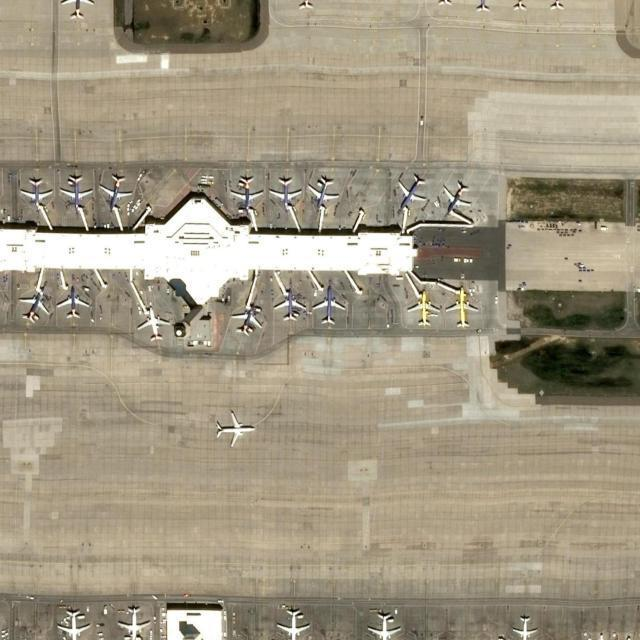Aircraft: (17, 173, 57, 211), (213, 412, 255, 447), (134, 305, 172, 343), (230, 172, 266, 212), (306, 172, 342, 212), (113, 604, 153, 640), (444, 287, 478, 329), (268, 175, 305, 212), (99, 172, 133, 212), (54, 285, 90, 322), (270, 286, 305, 324), (312, 285, 346, 324), (58, 173, 94, 209), (227, 303, 265, 337), (406, 290, 442, 324), (395, 175, 428, 211), (442, 180, 474, 216), (18, 286, 50, 322), (274, 608, 310, 640), (56, 608, 90, 640), (367, 609, 402, 639), (53, 1, 95, 21), (509, 615, 537, 640), (470, 0, 494, 18), (509, 0, 529, 17), (545, 0, 571, 13)
